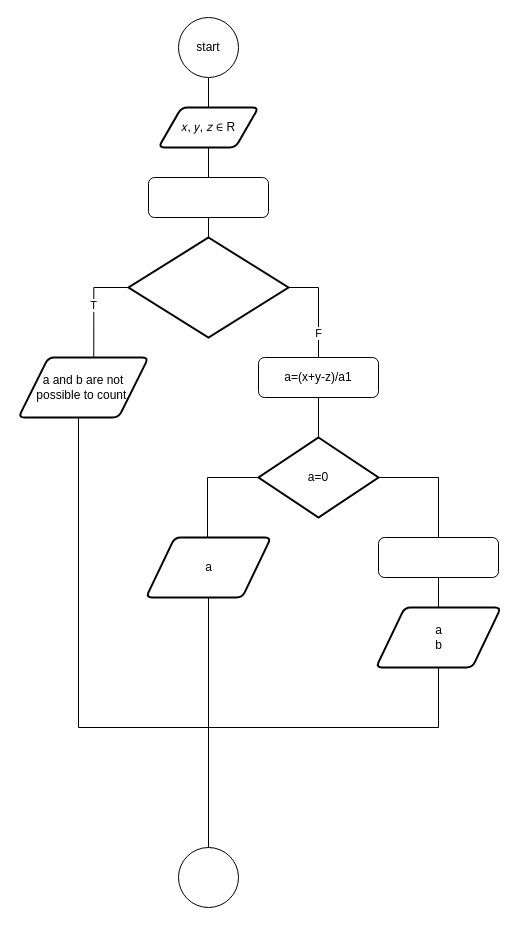
Some shapes in this 519 by 925 pixel diagram are drawn without their labels. The centre of each missing label's shape, as x and y in pixels:
"a1 = 0 || (x < 0 && 1/z mod 2 = 0)" goes at point 208,287.
"a1=(x^z)*y-Cbrt(x^2-y*(z^3))" goes at point 208,197.
"b=cos((x*y+y^2)/a^2)" goes at point 438,557.
"end" goes at point 208,877.
